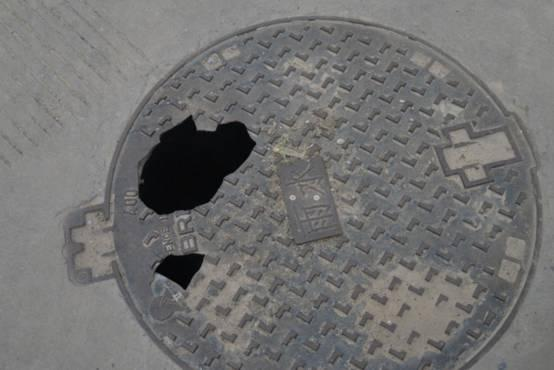wellcover: (71, 4, 554, 370)
